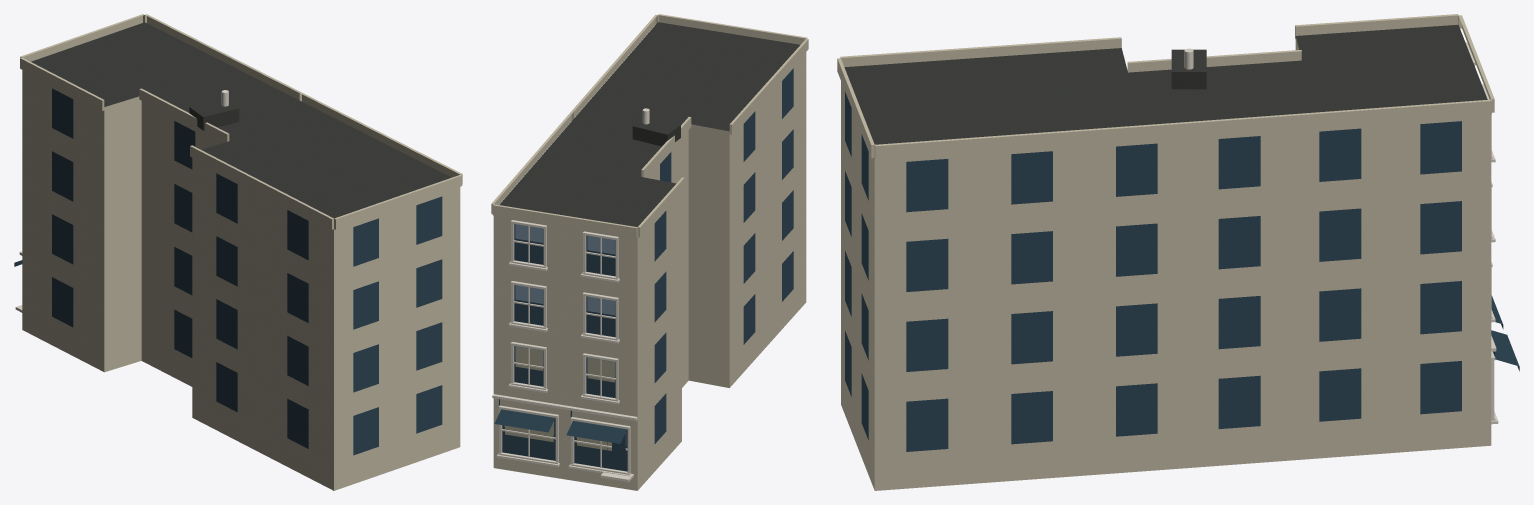
The picture shows the model from 3 angles, left to right: view 1: azimuth 30°, elevation 25°; view 2: azimuth 150°, elevation 25°; view 3: azimuth 270°, elevation 25°; orthographic projection. The views are drawn at different scales.
Parts seen in each view (by area): view 1: Footprint 0 / surface 2, Footprint 0 / surface 1, Inset glazing, Facade bay volumes; view 2: Footprint 0 / surface 2, Footprint 0 / surface 1, Inset glazing, Cornices and window frames, Facade bay volumes, Sky reflection panels, Storefronts and doors, Interior blind variation, Inferred rooftop service enclosure / surface 6, Inferred rooftop service enclosure / surface 3; view 3: Footprint 0 / surface 2, Inset glazing, Footprint 0 / surface 1, Facade bay volumes, Cornices and window frames, Storefronts and doors.
Part boxes in pixels (left/top/right/bottom): Footprint 0 / surface 2: left=22, top=70, right=460, bottom=490; Footprint 0 / surface 1: left=31, top=22, right=451, bottom=218; Inset glazing: left=52, top=88, right=442, bottom=455; Facade bay volumes: left=20, top=14, right=462, bottom=229; Footprint 0 / surface 2: left=493, top=52, right=806, bottom=490; Footprint 0 / surface 1: left=499, top=22, right=800, bottom=226; Inset glazing: left=502, top=68, right=793, bottom=471; Cornices and window frames: left=492, top=220, right=637, bottom=482; Facade bay volumes: left=491, top=14, right=808, bottom=238; Sky reflection panels: left=504, top=224, right=626, bottom=445; Storefronts and doors: left=494, top=399, right=626, bottom=468; Interior blind variation: left=505, top=346, right=614, bottom=450; Inferred rooftop service enclosure / surface 6: left=632, top=126, right=667, bottom=146; Inferred rooftop service enclosure / surface 3: left=633, top=117, right=680, bottom=134; Footprint 0 / surface 2: left=841, top=36, right=1491, bottom=490; Inset glazing: left=845, top=91, right=1461, bottom=451; Footprint 0 / surface 1: left=844, top=24, right=1487, bottom=144; Facade bay volumes: left=837, top=14, right=1494, bottom=159; Cornices and window frames: left=1465, top=42, right=1498, bottom=424; Storefronts and doors: left=1491, top=295, right=1519, bottom=371.
Bounding box in the file's own units: 10.7 × 14.01 × 23.32.
